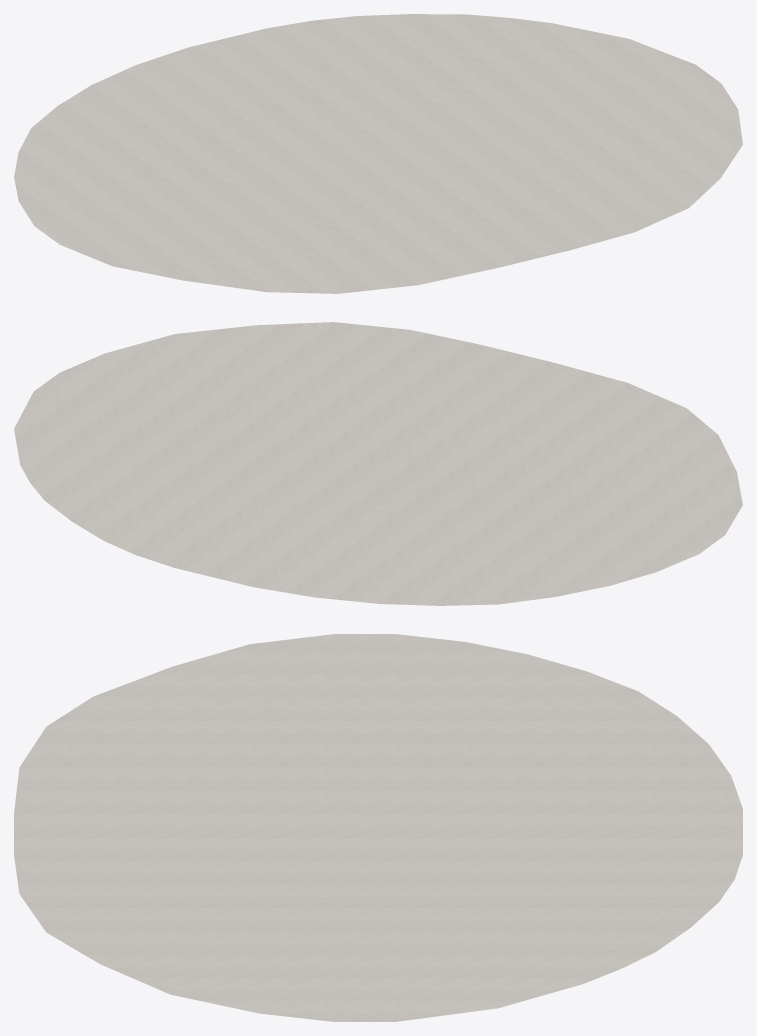
Rendered from CurbV2.gltf.
3 views of the same model, one above another, from view 1: azimuth 30°, elevation 25°; view 2: azimuth 150°, elevation 25°; view 3: azimuth 270°, elevation 25° (orthographic). The views are drawn at different scales.
Visible parts, largest first — view 1: Plane; view 2: Plane; view 3: Plane.
Part boxes in pixels (left/top/right/bottom): Plane: left=14, top=14, right=742, bottom=293; Plane: left=14, top=322, right=742, bottom=605; Plane: left=14, top=634, right=742, bottom=1021.
Bounding box in the file's own units: 29.75 × 8.09e-07 × 23.63.
1 material, 1 textured.
